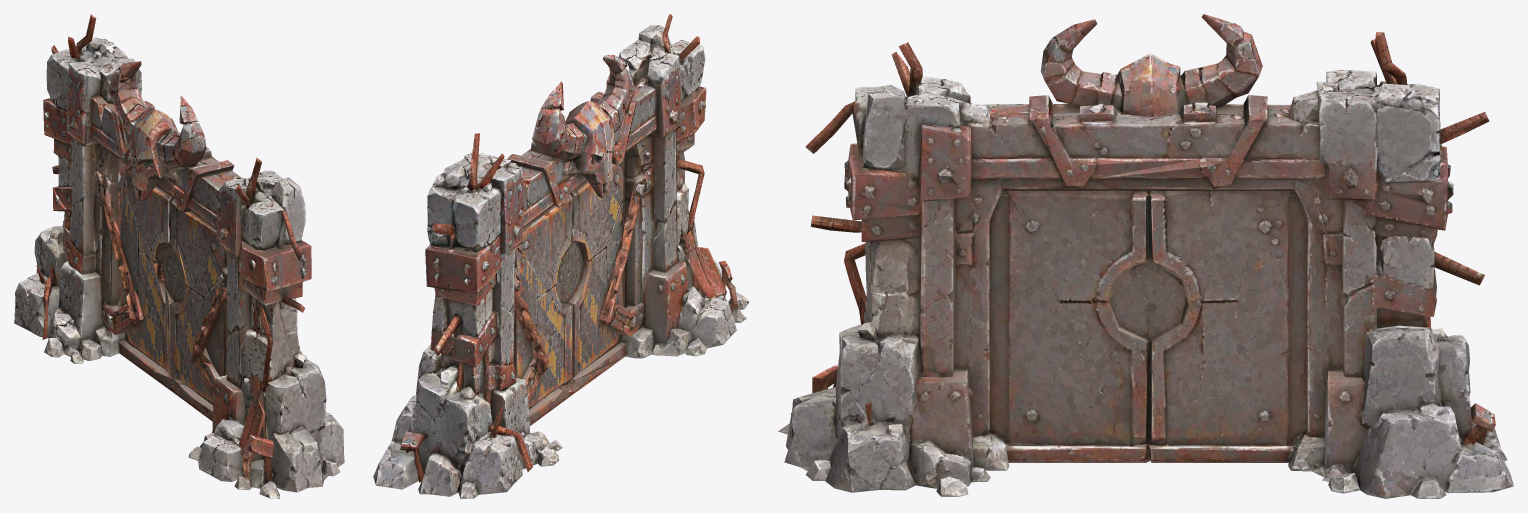
File: boss_door_ruins.glb
3 views of the same model, side by side, from view 1: azimuth 30°, elevation 25°; view 2: azimuth 150°, elevation 25°; view 3: azimuth 270°, elevation 25° (orthographic). The views are drawn at different scales.
Parts seen in each view (by area): view 1: jamb_p, jamb_n, slab, lintel; view 2: jamb_n, jamb_p, slab, lintel; view 3: slab, jamb_n, jamb_p, lintel.
Part boxes in pixels (bbox=[...]): jamb_p: bbox=[188, 158, 344, 498]; jamb_n: bbox=[14, 14, 142, 363]; slab: bbox=[109, 170, 228, 421]; lintel: bbox=[74, 61, 241, 432]; jamb_n: bbox=[373, 133, 562, 498]; jamb_p: bbox=[606, 14, 749, 356]; slab: bbox=[514, 148, 641, 425]; lintel: bbox=[507, 55, 649, 443]; slab: bbox=[992, 193, 1293, 465]; jamb_n: bbox=[1293, 32, 1513, 498]; jamb_p: bbox=[778, 42, 992, 496]; lintel: bbox=[992, 14, 1293, 470].
Bounding box in the file's own units: 1.82 × 4.22 × 6.53.
Materials: 1 (1 with a texture image).
